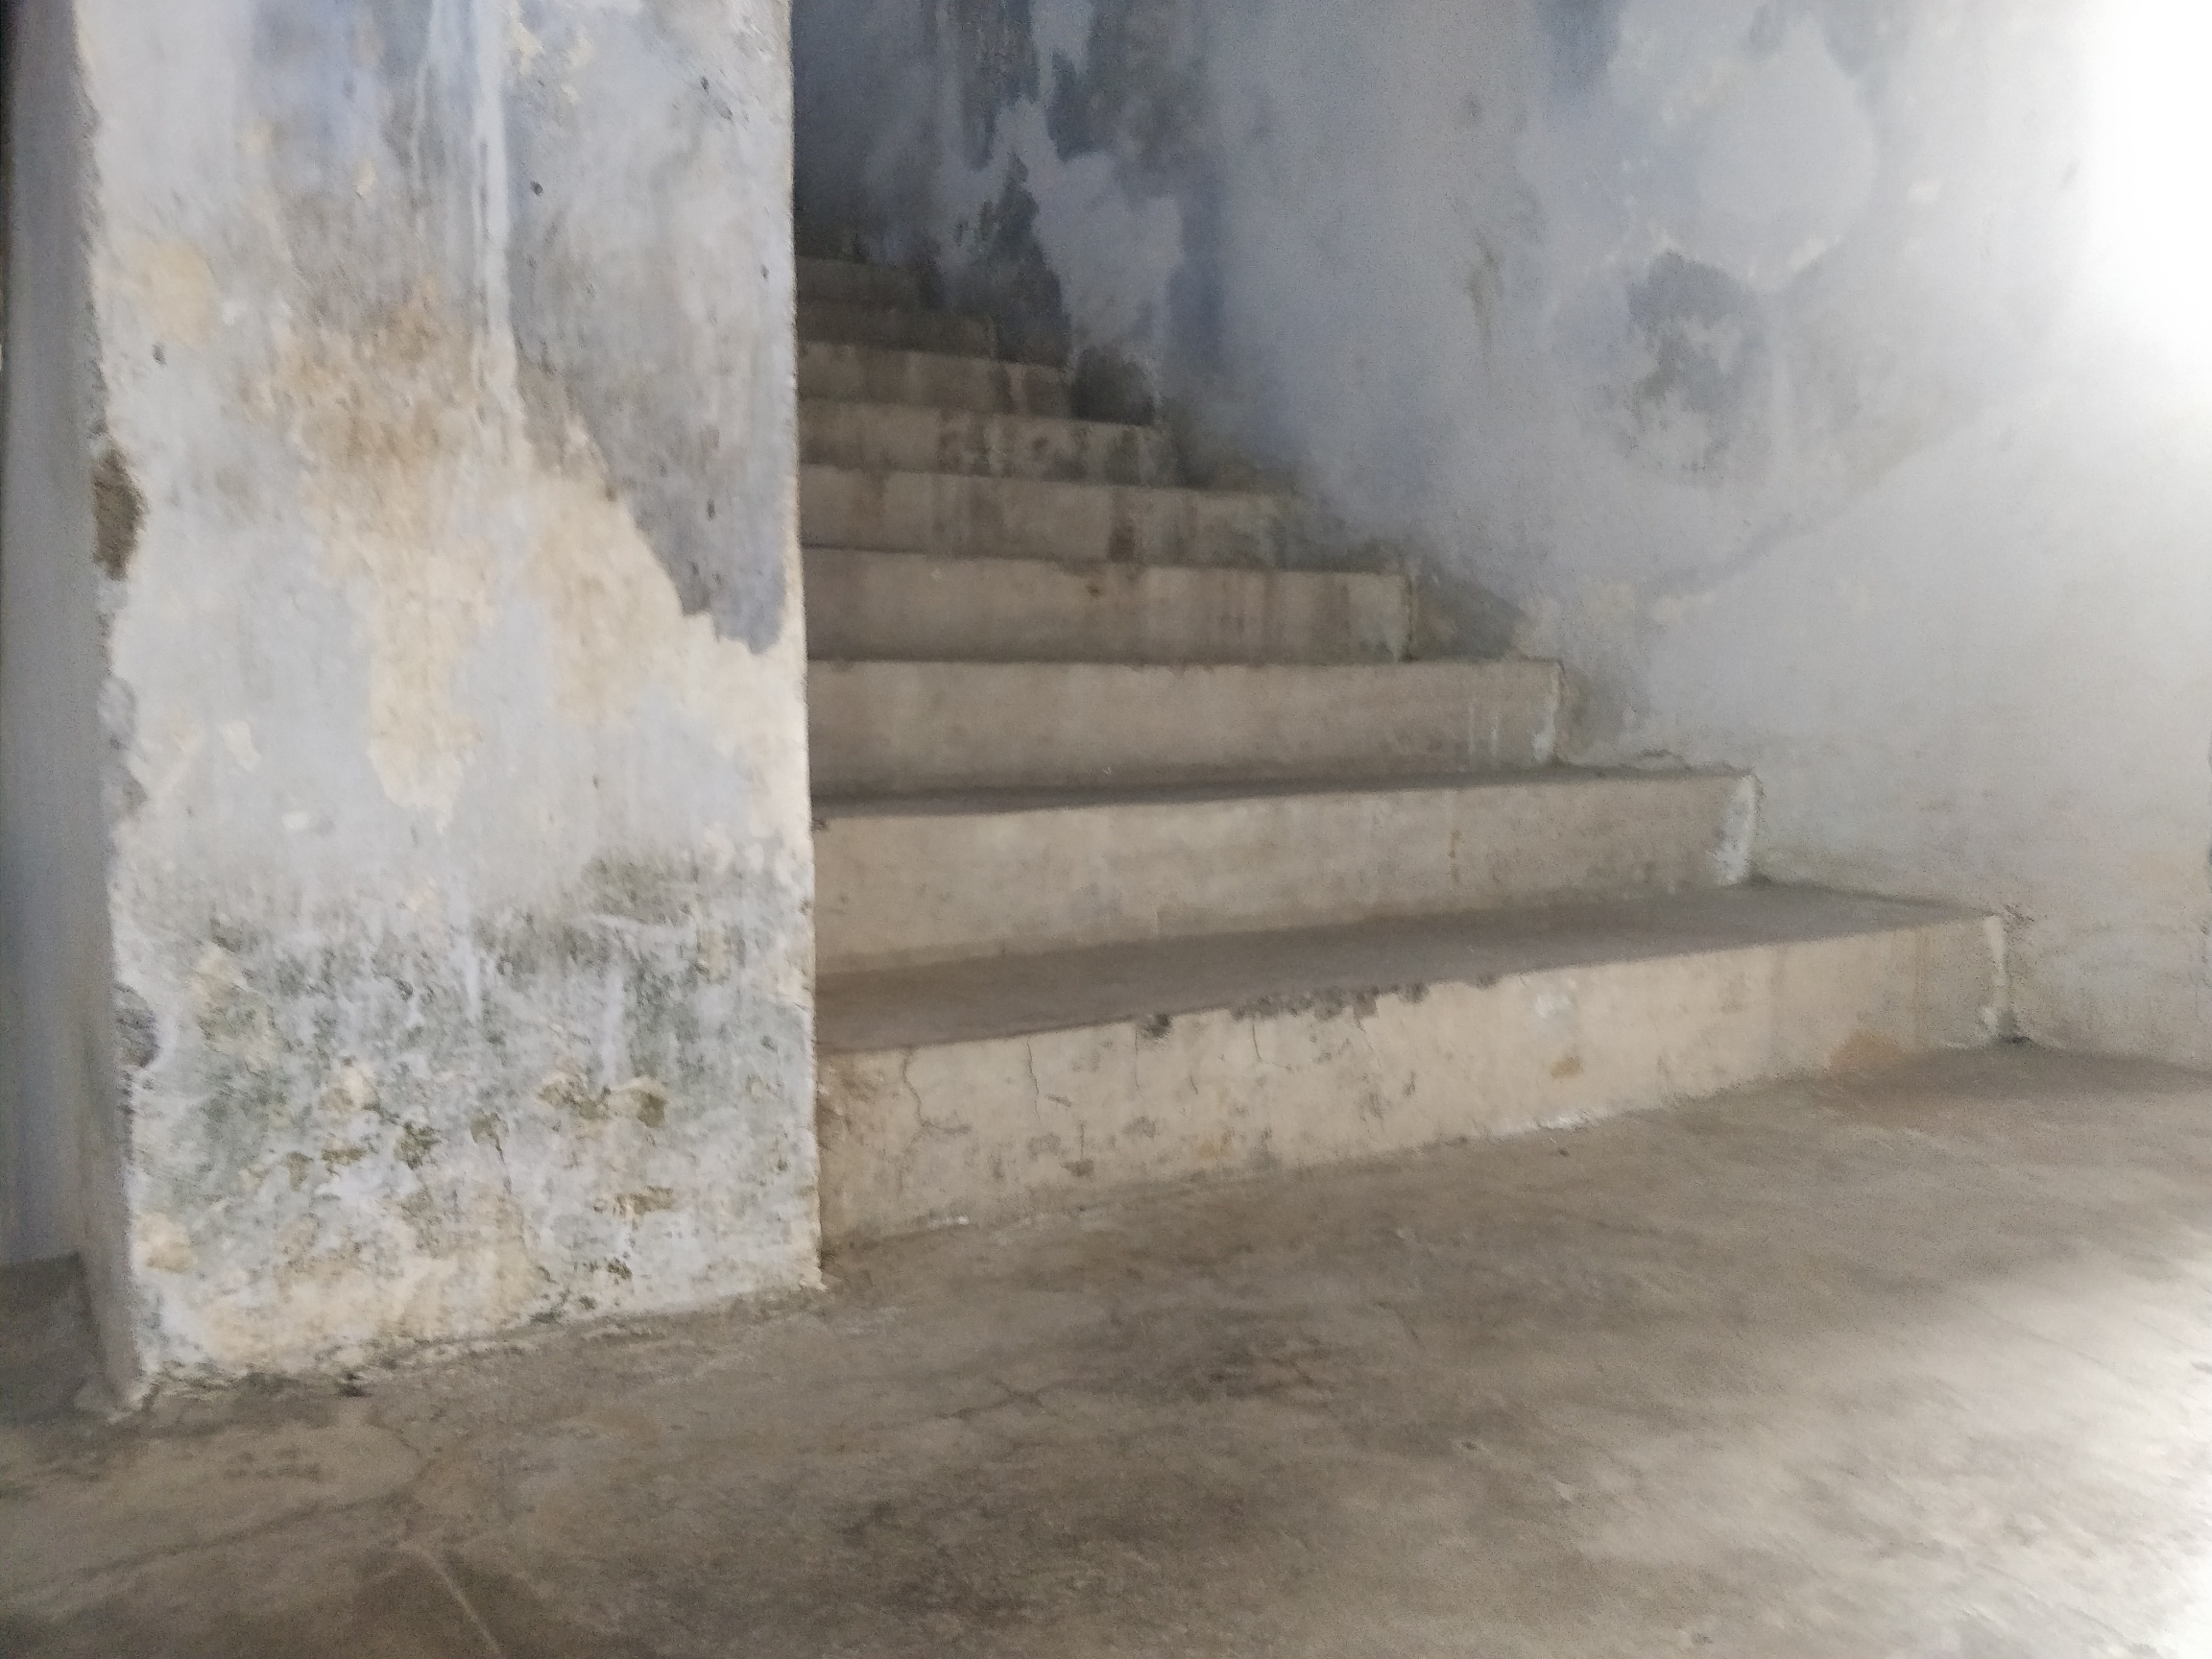stairs_up: (756, 153, 2029, 1225)
